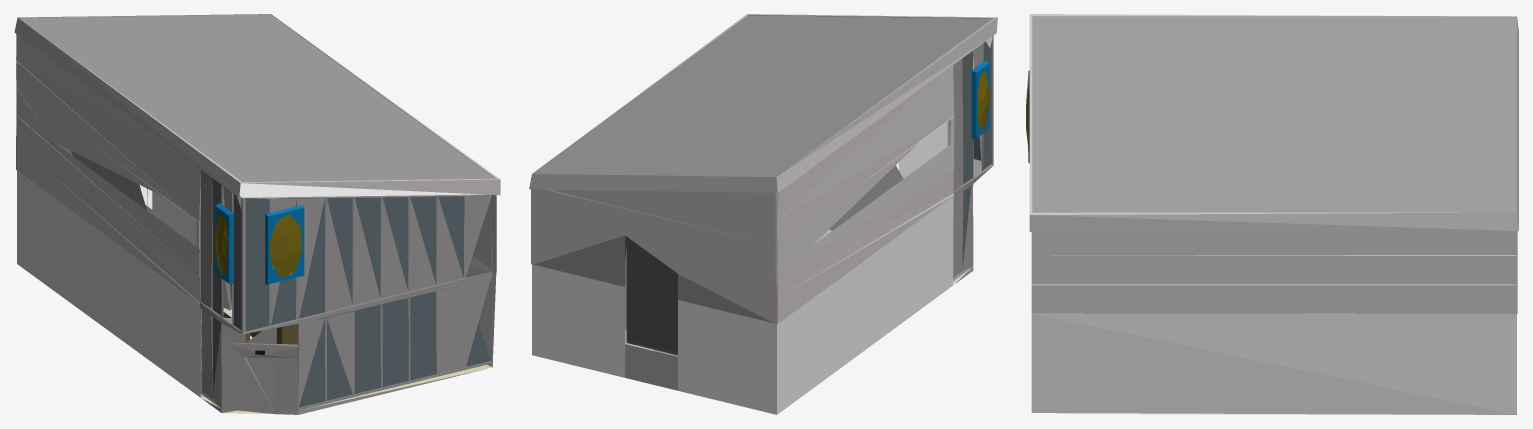
File: market.glb
3 renders of one model, left to right at view 1: azimuth 30°, elevation 25°; view 2: azimuth 150°, elevation 25°; view 3: azimuth 270°, elevation 25°, orthographic. The views are drawn at different scales.
Parts seen in each view (by area): view 1: Mesh_218; view 2: Mesh_218; view 3: Mesh_218.
Boxes of the visible parts, bbox=[...] form: Mesh_218: bbox=[14, 14, 500, 414]; Mesh_218: bbox=[529, 14, 997, 414]; Mesh_218: bbox=[1026, 14, 1518, 414].
Size of the model in its own units: 19.97 by 18 by 29.93.
Materials: 2 (2 with a texture image).
